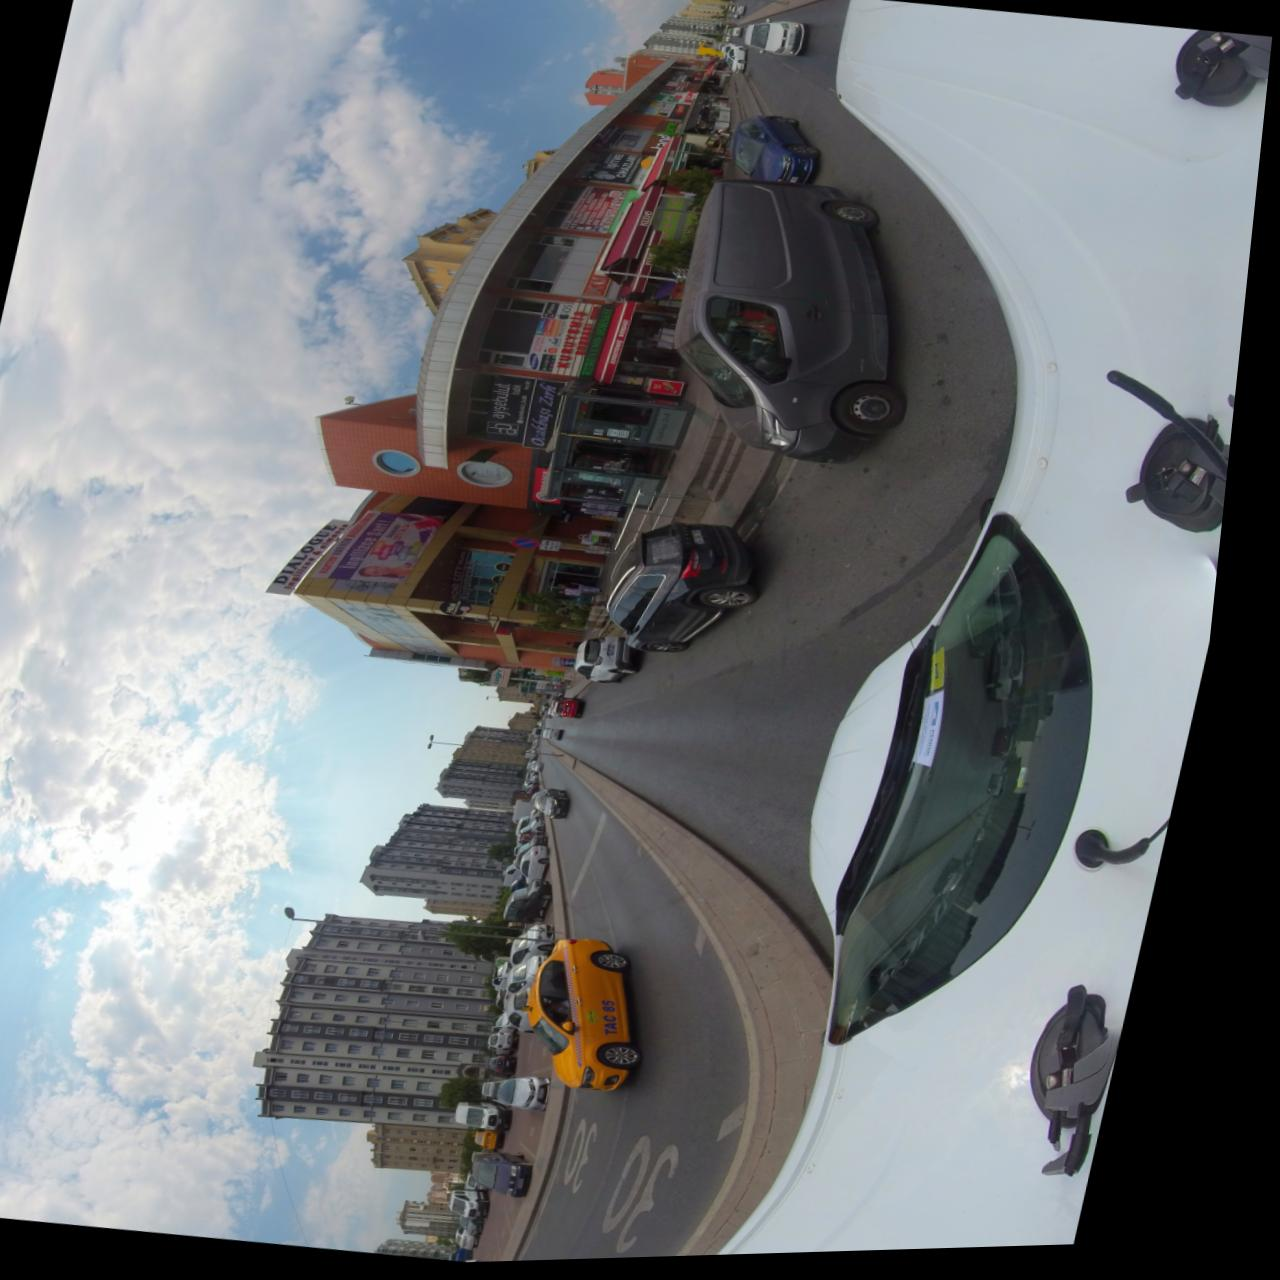SignStore: (561, 305, 610, 377), (495, 379, 543, 444), (533, 381, 574, 451), (648, 124, 686, 154), (590, 278, 618, 299), (674, 108, 692, 120), (687, 95, 701, 104)
